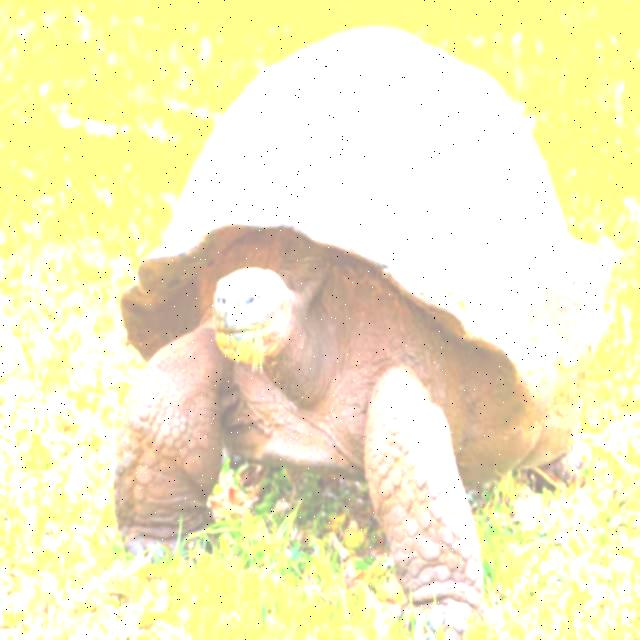tortoise: (120, 46, 640, 640)
